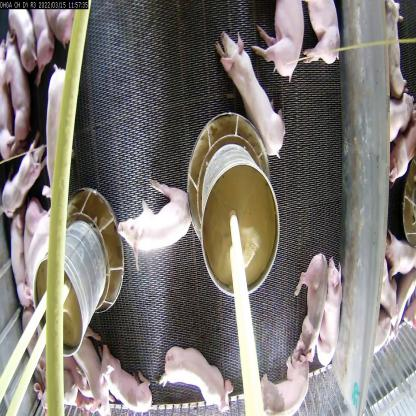Pig: (214, 16, 289, 167), (112, 165, 197, 256), (158, 334, 236, 416), (99, 330, 156, 416), (41, 50, 73, 202), (254, 0, 306, 84), (2, 131, 52, 217), (254, 344, 314, 415), (292, 247, 326, 369), (0, 24, 30, 141), (302, 0, 346, 68), (319, 254, 344, 365), (8, 204, 34, 304), (382, 223, 416, 282)
